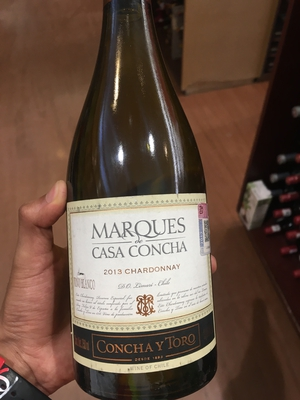marques de casa concha chardonnay: (63, 24, 241, 400)
